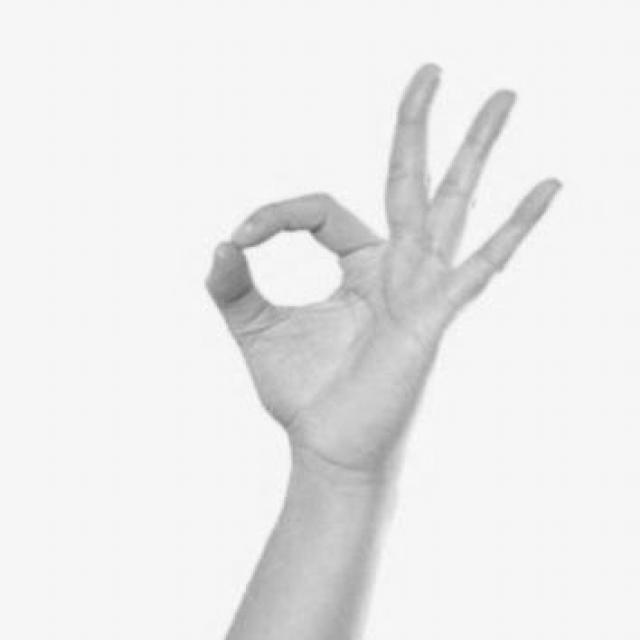perfect: (195, 49, 570, 472)
